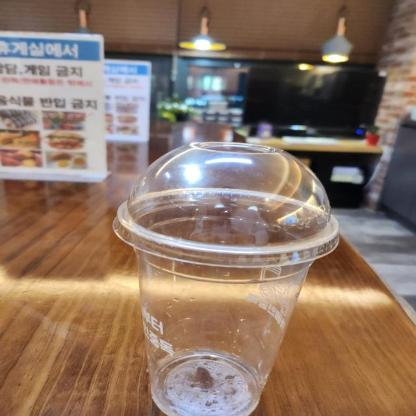Plastic Cup: (114, 129, 336, 415)
